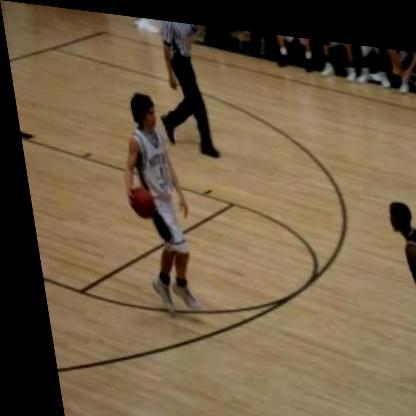basketball: (120, 180, 155, 218)
